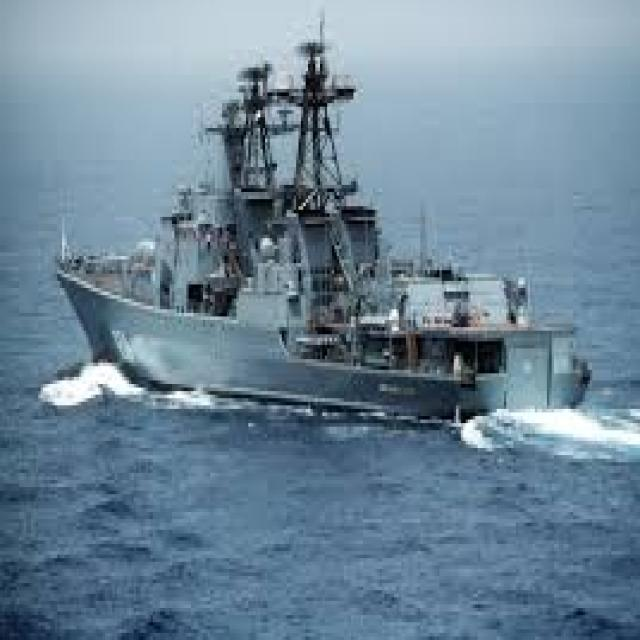navalvessels: (59, 24, 598, 426)
